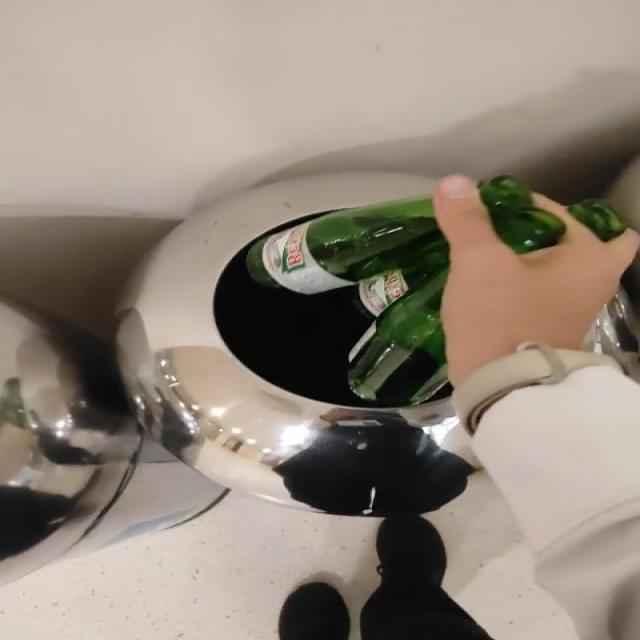bin: (117, 172, 471, 518)
glass: (247, 196, 449, 407), (479, 176, 567, 253), (569, 200, 627, 240)
